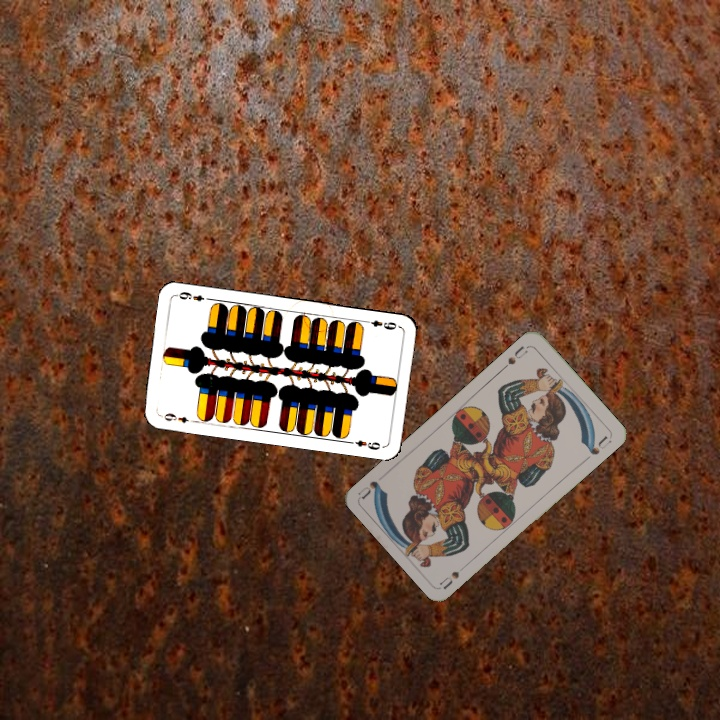E9: (157, 409, 197, 425), (360, 316, 399, 332)
SU: (498, 342, 531, 373), (436, 567, 462, 591)
